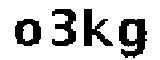3: (47, 5, 78, 49)
g: (116, 14, 148, 60)
k: (81, 7, 113, 49)
o: (12, 16, 44, 49)
